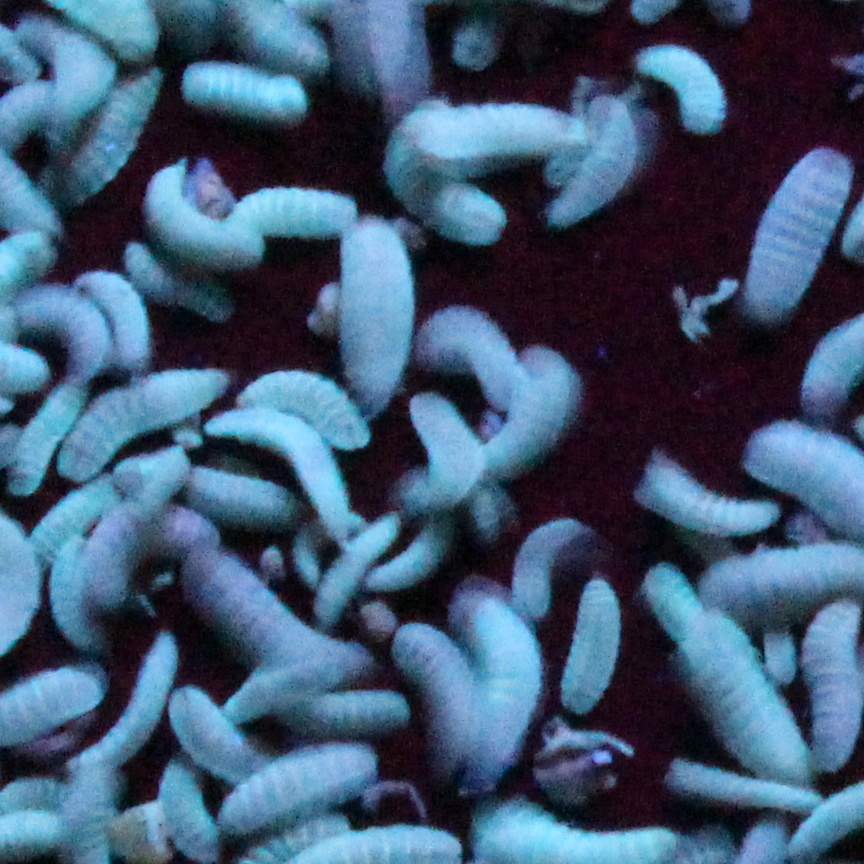larve: (195, 391, 371, 560), (673, 617, 829, 807), (176, 536, 366, 688), (736, 134, 863, 324), (469, 329, 589, 499), (213, 729, 386, 833), (67, 622, 181, 776), (389, 622, 495, 778), (407, 83, 581, 172), (336, 214, 415, 407), (138, 149, 268, 266), (628, 454, 777, 537), (555, 92, 643, 232), (224, 166, 357, 249), (630, 36, 734, 139), (179, 50, 318, 126), (564, 560, 623, 724), (76, 261, 155, 376), (507, 504, 584, 621), (5, 283, 118, 362)
